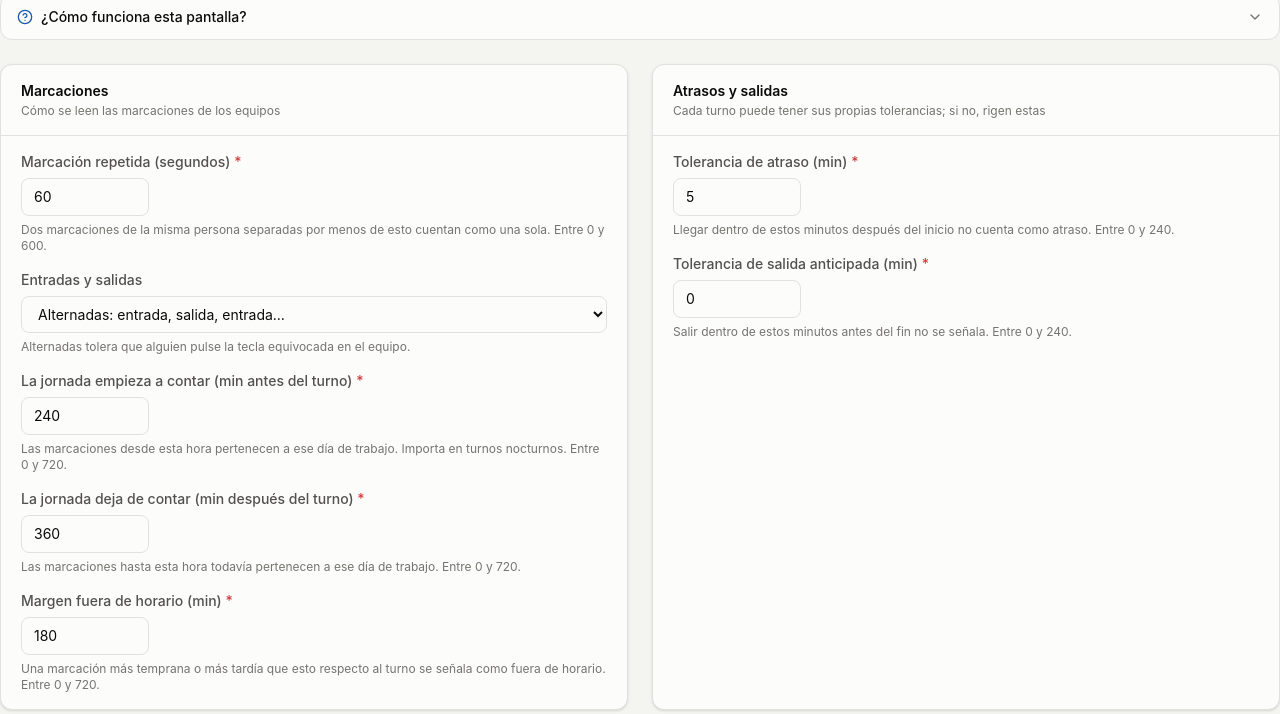
Test: SettingsPage › saves only the rules that changed
Replace the text in the number field labelled "Tolerancia de atraso (min)" with "10". click: (737, 197)
box: top-left (673, 178), bottom-right (801, 216)
(page scrolled)
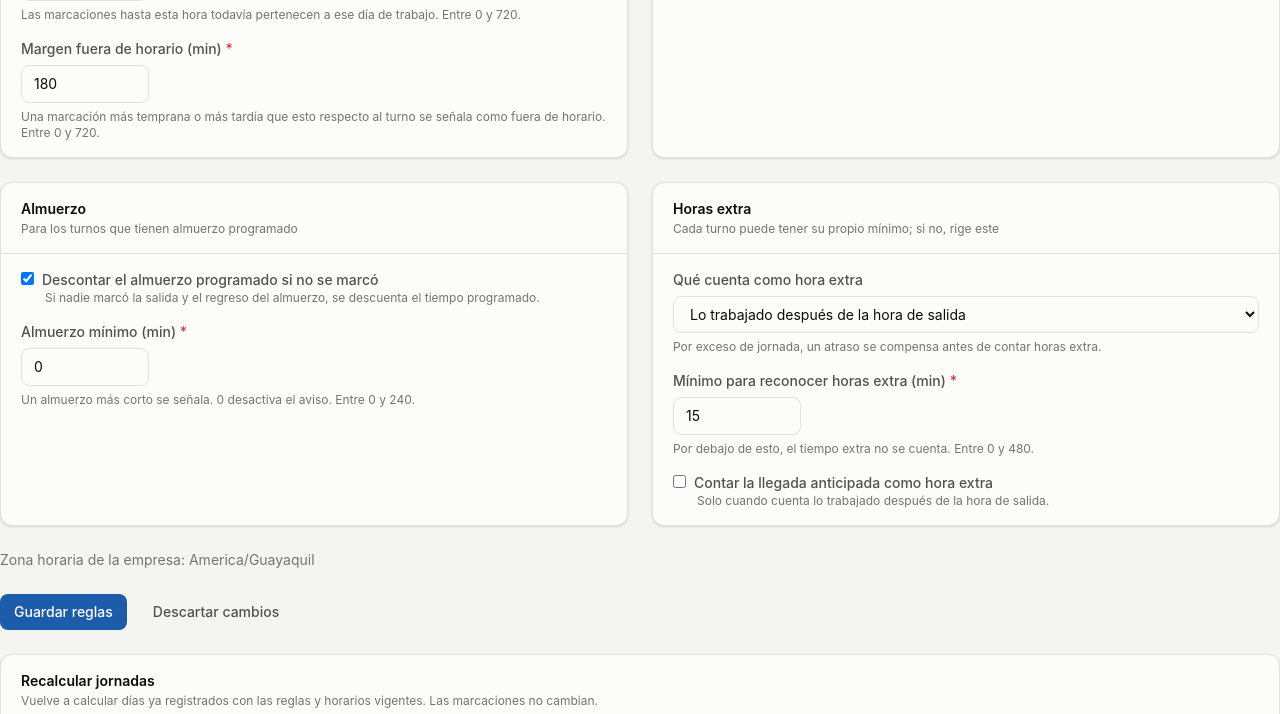
Select "Lo trabajado por encima de la jornada" in the dropdown labelled "Qué cuenta como hora extra". click: (966, 314)
box: top-left (673, 296), bottom-right (1259, 333)
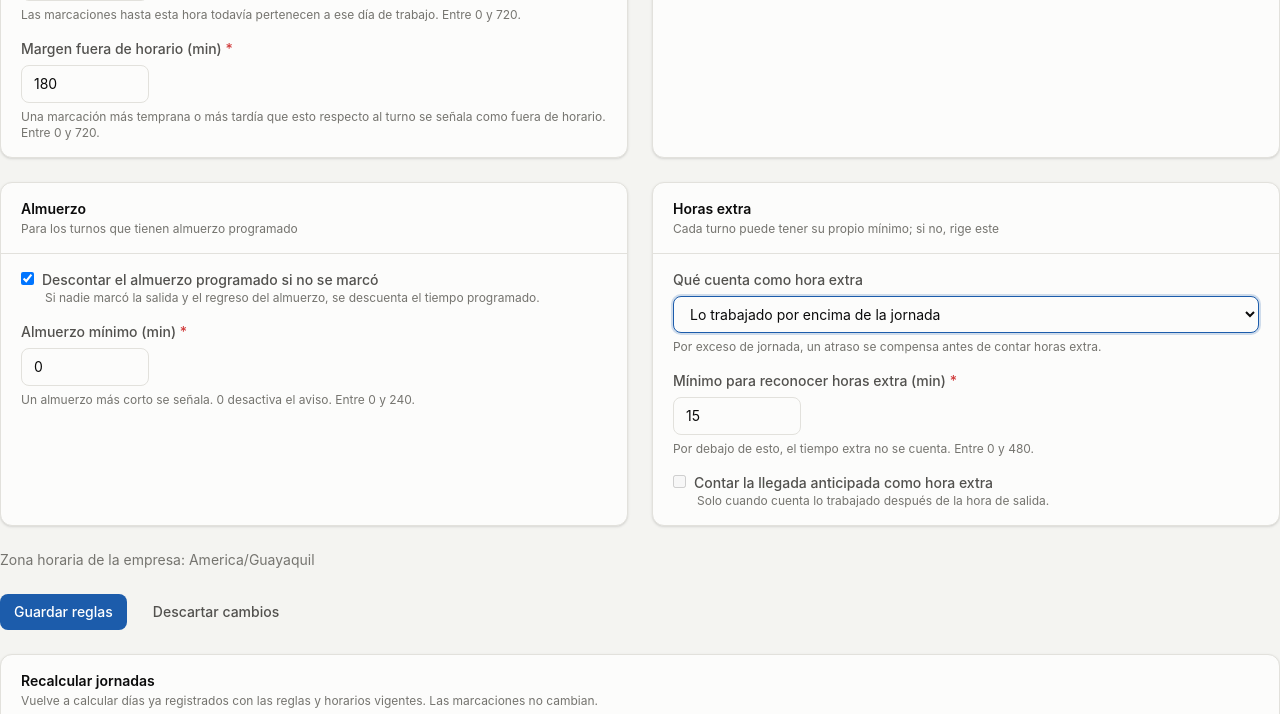
Click the button "Guardar reglas". click: click(63, 612)
box: top-left (0, 594), bottom-right (127, 630)
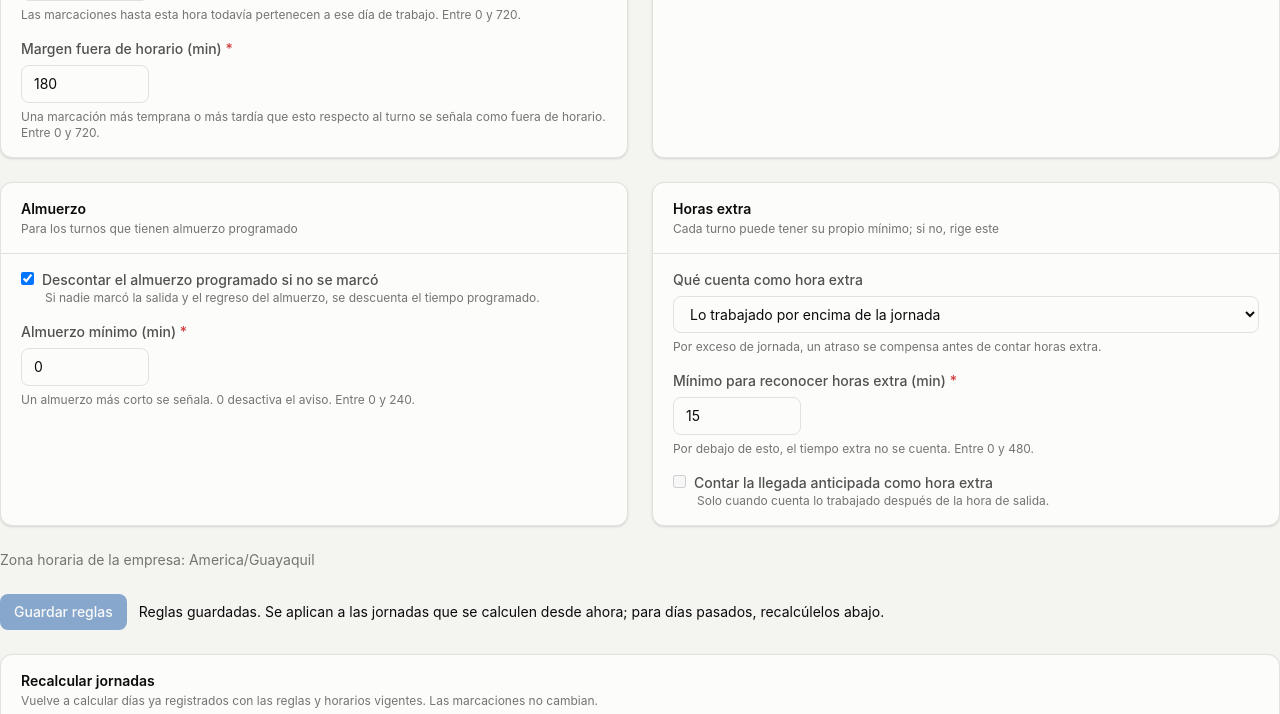
Expected: the message shows "Reglas guardadas", top-left (139, 603), bottom-right (884, 620)
Expected: the button "Guardar reglas" is disabled, top-left (0, 594), bottom-right (127, 630)
